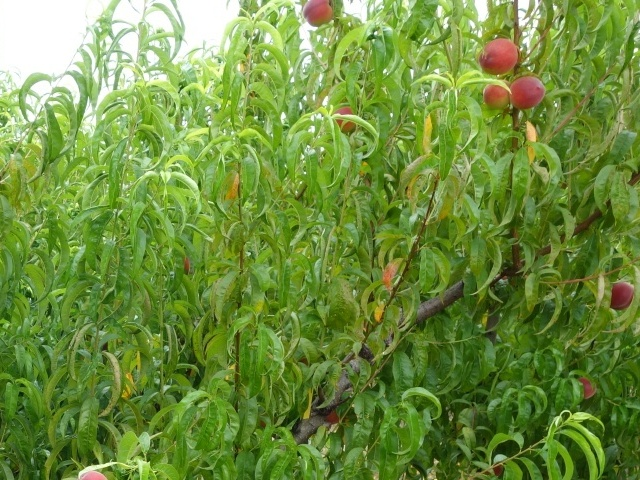peach: (477, 34, 521, 79), (476, 76, 518, 117), (502, 74, 549, 110), (606, 274, 639, 318), (330, 104, 362, 139), (298, 1, 341, 27), (569, 371, 599, 402)
